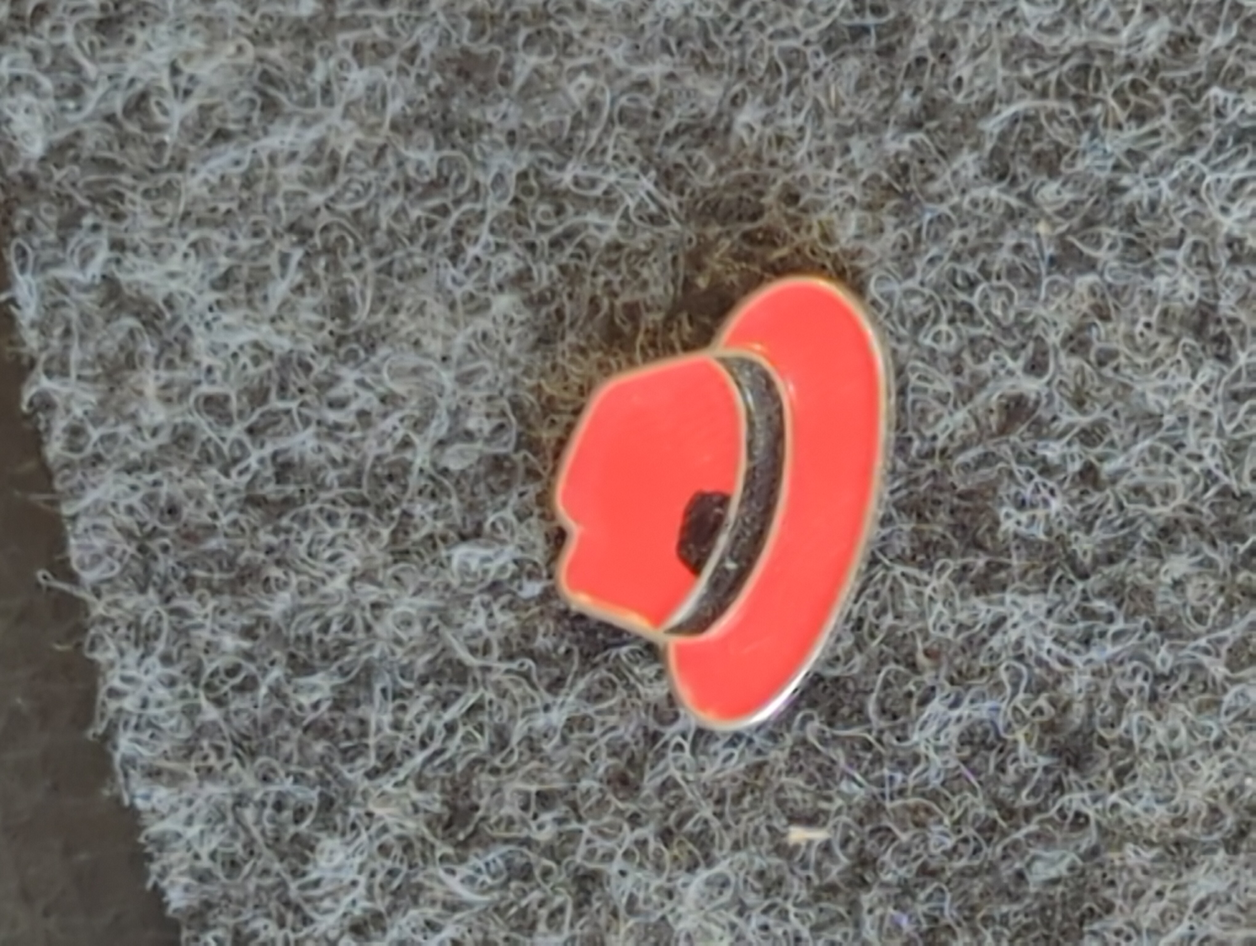Red-Hat: (435, 195, 982, 822)
Scratch: (642, 418, 773, 606)
